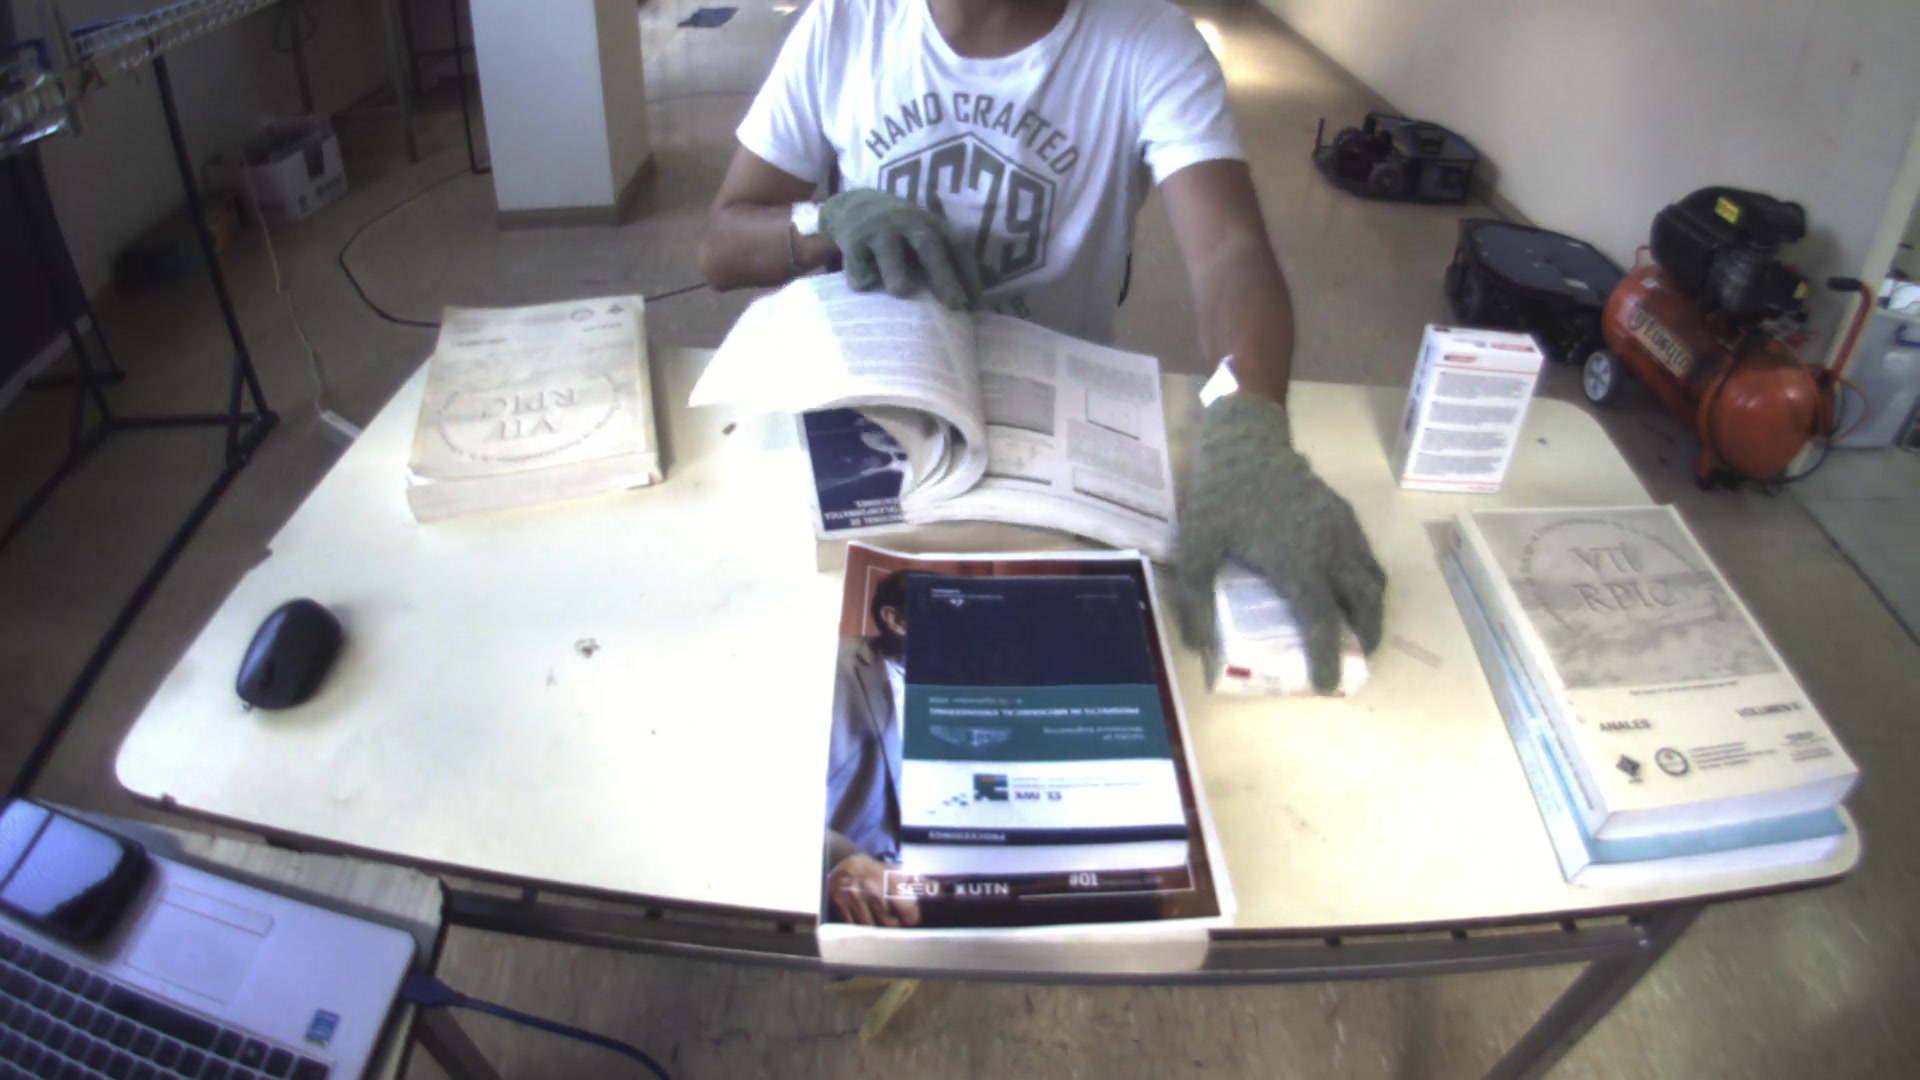hand: (1167, 386, 1400, 699), (814, 179, 972, 293)
